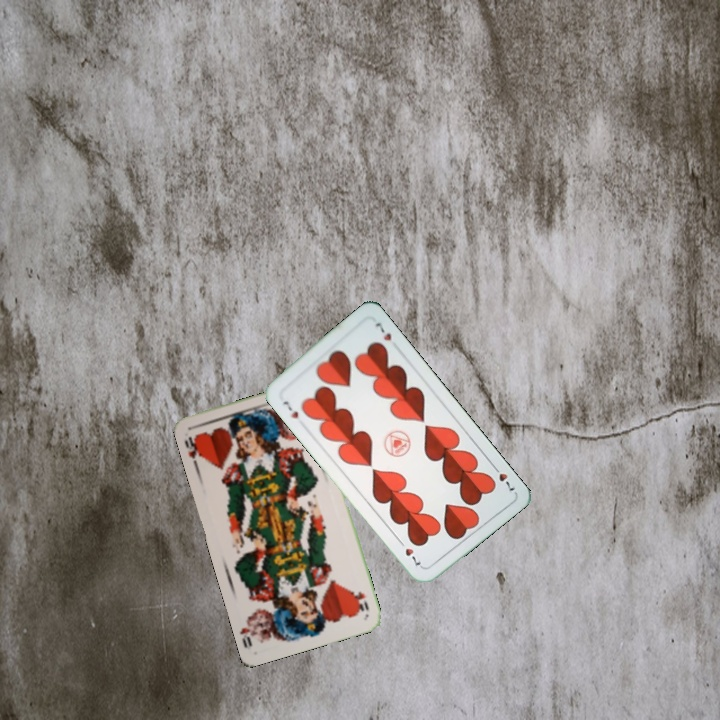H7: (488, 460, 518, 494), (279, 396, 301, 421)
HO: (180, 431, 205, 461), (350, 586, 371, 615)
